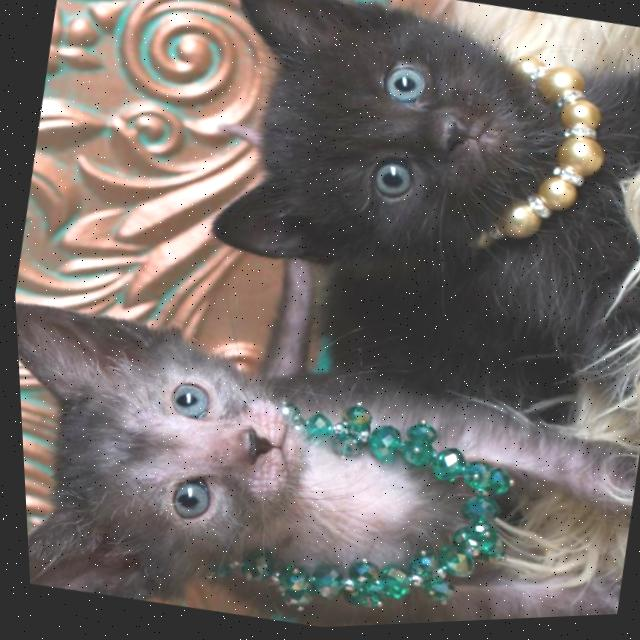Lykoi: (12, 274, 640, 640)
